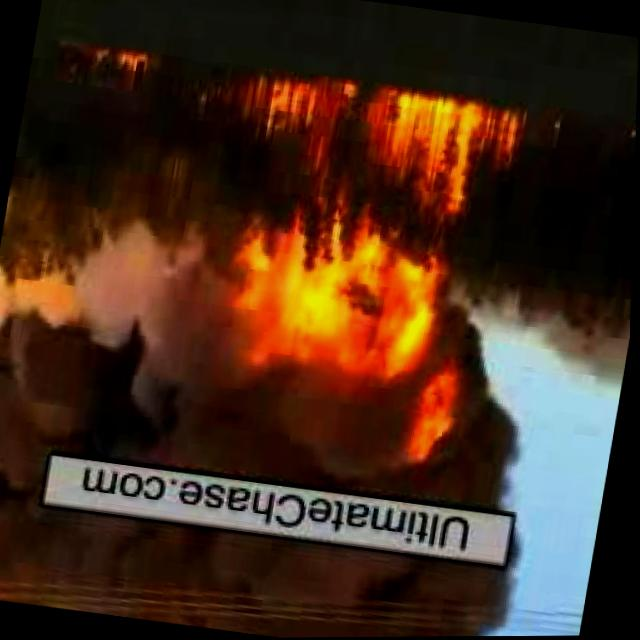helmet: (200, 64, 528, 242), (198, 216, 459, 395), (407, 366, 474, 463), (85, 45, 155, 90)
no_helmet: (0, 312, 406, 503), (0, 494, 519, 640)
